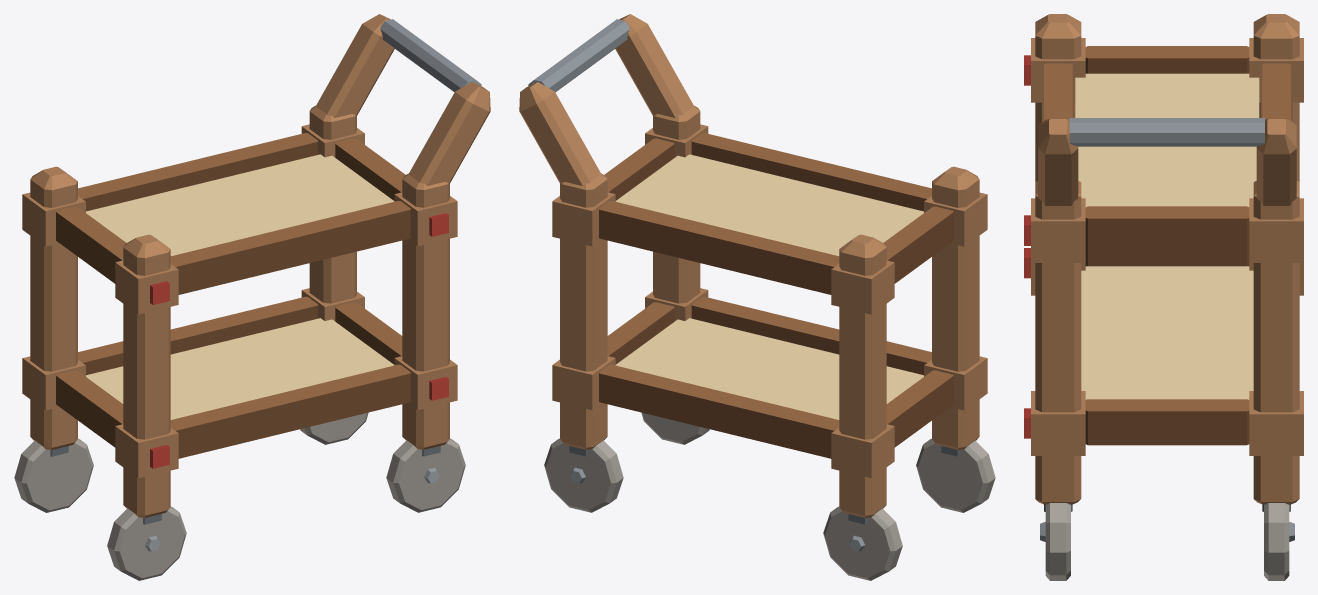
File: FMS_Workshop_FUR_08.fbx
The picture shows the model from 3 angles, left to right: view 1: azimuth 30°, elevation 25°; view 2: azimuth 150°, elevation 25°; view 3: azimuth 270°, elevation 25°; orthographic projection. The views are drawn at different scales.
Parts seen in each view (by area): view 1: FMS_Workshop_FUR_08_Body, FMS_Workshop_FUR_08_Wheel_BL, FMS_Workshop_FUR_08_Wheel_FL, FMS_Workshop_FUR_08_Wheel_FR, FMS_Workshop_FUR_08_Wheel_BR; view 2: FMS_Workshop_FUR_08_Body, FMS_Workshop_FUR_08_Wheel_FL, FMS_Workshop_FUR_08_Wheel_BL, FMS_Workshop_FUR_08_Wheel_BR, FMS_Workshop_FUR_08_Wheel_FR; view 3: FMS_Workshop_FUR_08_Body, FMS_Workshop_FUR_08_Wheel_FR, FMS_Workshop_FUR_08_Wheel_BR.
Part boxes in pixels (<box>): FMS_Workshop_FUR_08_Body: <box>22,14,490,524</box>; FMS_Workshop_FUR_08_Wheel_BL: <box>14,438,93,512</box>; FMS_Workshop_FUR_08_Wheel_FL: <box>107,506,186,580</box>; FMS_Workshop_FUR_08_Wheel_FR: <box>386,438,465,512</box>; FMS_Workshop_FUR_08_Wheel_BR: <box>300,412,368,444</box>; FMS_Workshop_FUR_08_Body: <box>519,14,987,524</box>; FMS_Workshop_FUR_08_Wheel_FL: <box>916,438,995,512</box>; FMS_Workshop_FUR_08_Wheel_BL: <box>823,506,902,580</box>; FMS_Workshop_FUR_08_Wheel_BR: <box>544,438,623,512</box>; FMS_Workshop_FUR_08_Wheel_FR: <box>641,412,709,444</box>; FMS_Workshop_FUR_08_Body: <box>1024,14,1303,511</box>; FMS_Workshop_FUR_08_Wheel_FR: <box>1040,503,1070,580</box>; FMS_Workshop_FUR_08_Wheel_BR: <box>1264,503,1294,580</box>.
Bounding box in the file's own units: 0.8892 × 0.929 × 0.487.
